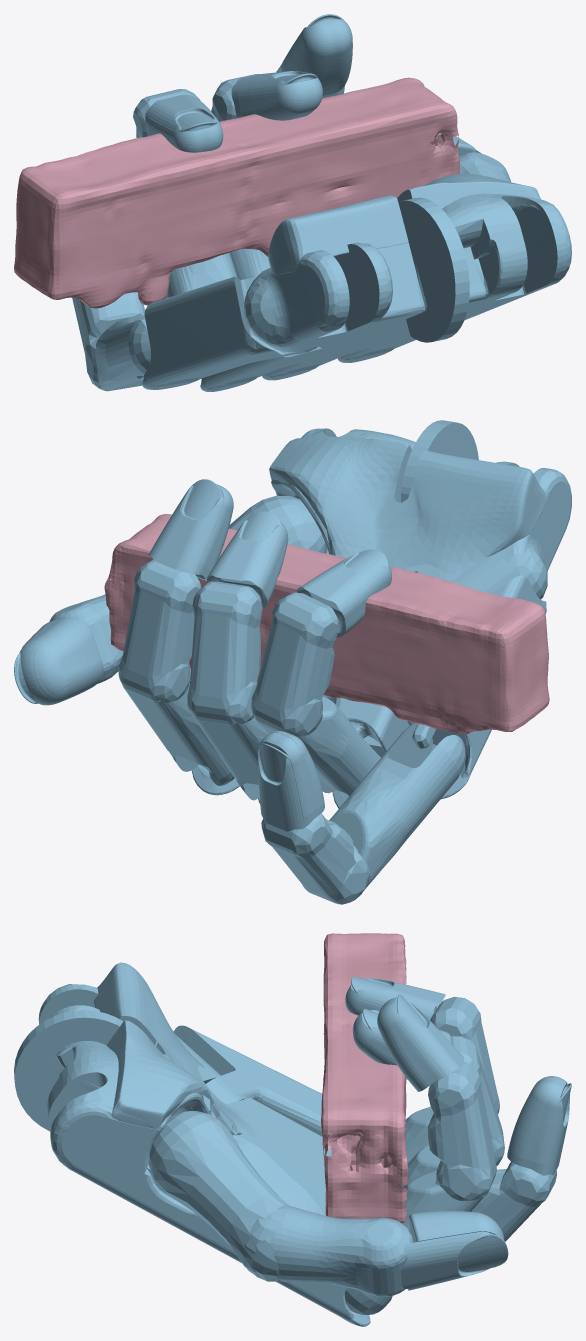
3 views of the same model, one above another, from view 1: azimuth 30°, elevation 25°; view 2: azimuth 150°, elevation 25°; view 3: azimuth 270°, elevation 25° (orthographic). The views are drawn at different scales.
Visible parts, largest first — view 1: hand, world; view 2: hand, world; view 3: hand, world.
Part boxes in pixels (x1=…): hand: x1=72, y1=14, x2=571, y2=391; world: x1=14, y1=77, x2=460, y2=308; hand: x1=14, y1=420, x2=571, y2=904; world: x1=104, y1=514, x2=549, y2=734; hand: x1=14, y1=962, x2=571, y2=1326; world: x1=321, y1=933, x2=407, y2=1223.
Bounding box in the file's own units: 0.1517 × 0.1071 × 0.159.
